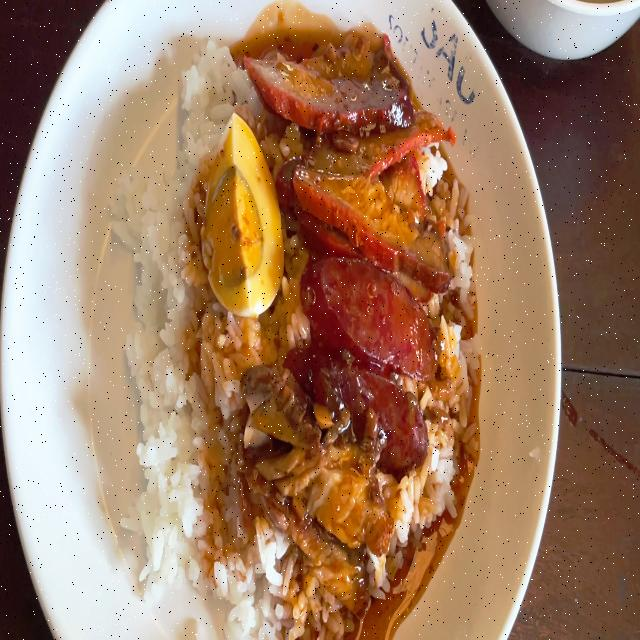boiled_egg: (215, 132, 270, 309)
chainese_sausage: (309, 270, 431, 442)
crispy_pork: (263, 463, 392, 626), (239, 381, 311, 466)
red_pork: (255, 26, 456, 141), (292, 136, 451, 256)
red_pork_and_crispy_pork: (91, 0, 501, 640)
rice: (125, 0, 190, 627), (184, 334, 234, 640)
